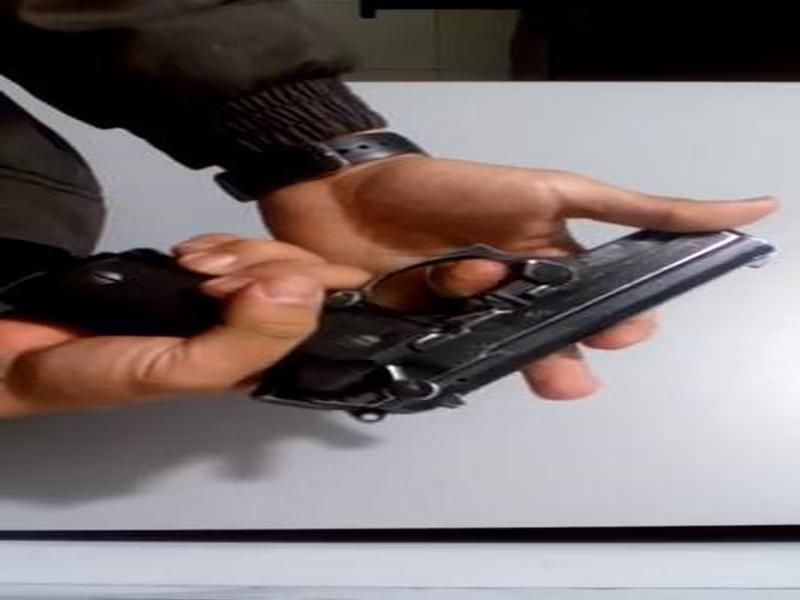Pistola: (38, 211, 784, 421)
